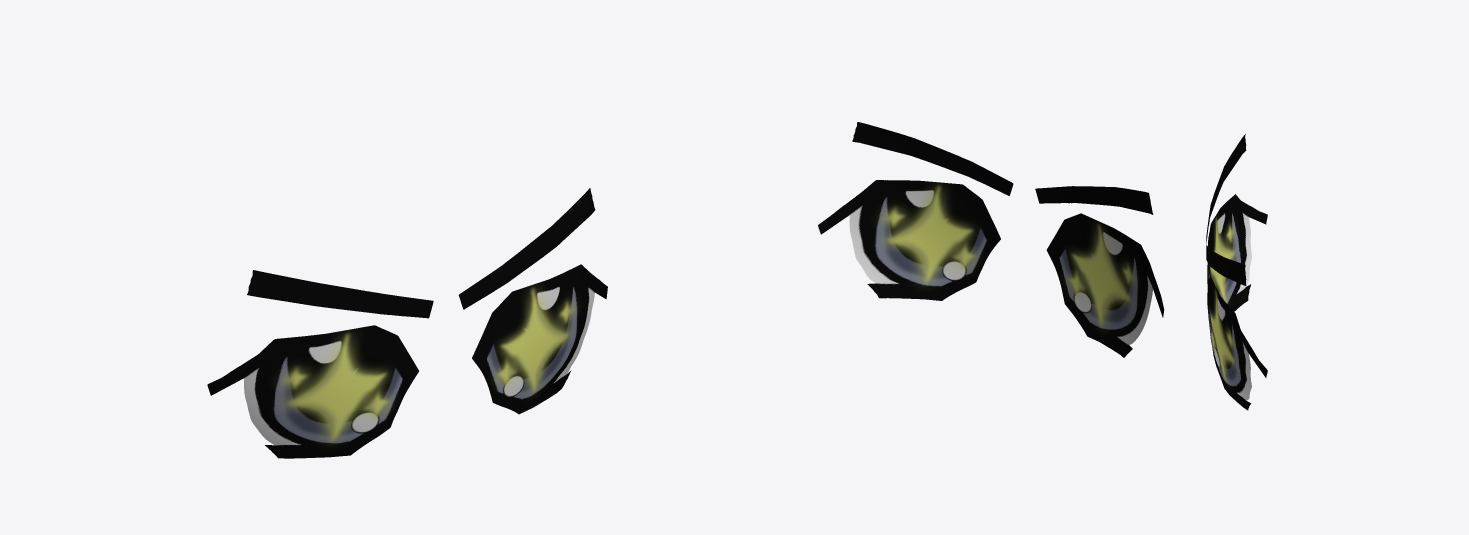
Rendered from Remilio_Star_Blue.glb.
3 views of the same model, side by side, from view 1: azimuth 30°, elevation 25°; view 2: azimuth 150°, elevation 25°; view 3: azimuth 270°, elevation 25° (orthographic). The views are drawn at different scales.
Parts seen in each view (by area): view 1: Remilio_Star_Blue; view 2: Remilio_Star_Blue; view 3: Remilio_Star_Blue.
Boxes of the visible parts, box(x1,y1,x2,y2) form: Remilio_Star_Blue: box(207, 188, 607, 458); Remilio_Star_Blue: box(818, 122, 1164, 357); Remilio_Star_Blue: box(1206, 134, 1267, 410).
Size of the model in its own units: 0.8827 by 0.6239 by 0.4009.
1 material, 1 textured.
